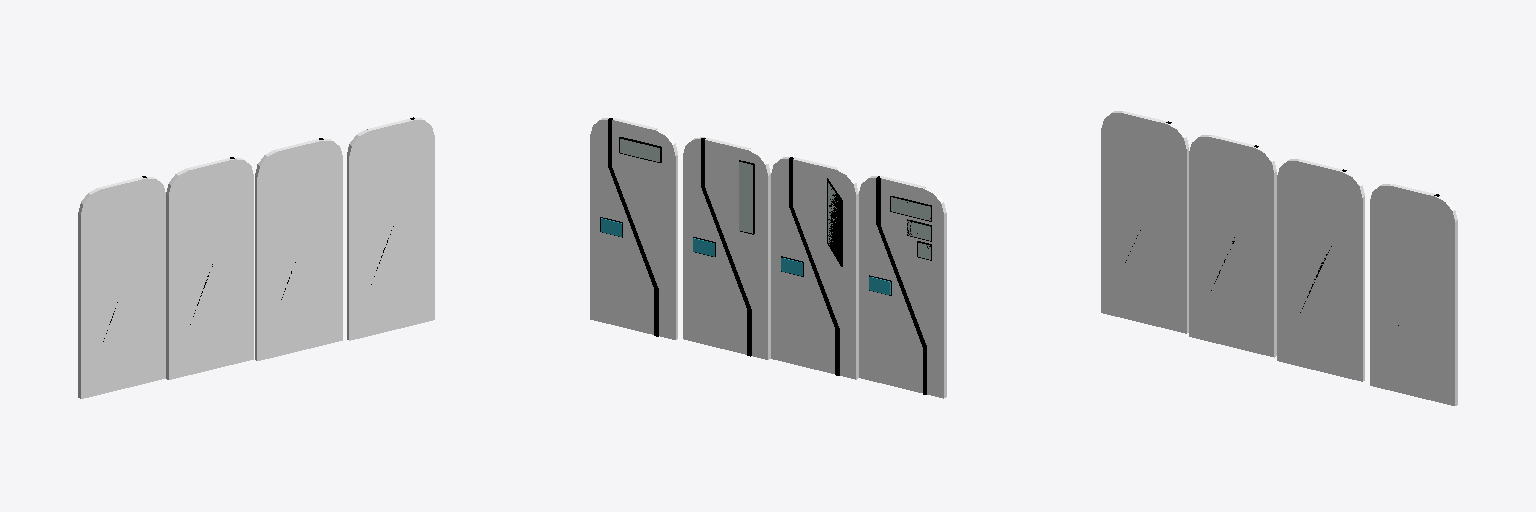
The picture shows the model from 3 angles: view 1: azimuth 30°, elevation 25°; view 2: azimuth 150°, elevation 25°; view 3: azimuth 330°, elevation 25°; orthographic projection.
Visible parts, largest first — view 1: group[number redacted], group[number redacted], group[number redacted], group[number redacted], group[number redacted], group[number redacted], group[number redacted], group[number redacted], group[number redacted], group[number redacted], group[number redacted]; view 2: group[number redacted], group[number redacted], group[number redacted], group[number redacted], group[number redacted], group[number redacted], group[number redacted], group[number redacted], group[number redacted], group[number redacted], group[number redacted], group[number redacted] (+10 smaller); view 3: group[number redacted], group[number redacted], group[number redacted], group[number redacted], group[number redacted], group[number redacted], group[number redacted], group[number redacted], group[number redacted], group[number redacted], group[number redacted], group[number redacted].
Boxes of the visible parts, x1,y1,x2,y2 form: group[number redacted]: [255, 156, 342, 360]; group[number redacted]: [78, 194, 165, 398]; group[number redacted]: [347, 136, 434, 340]; group[number redacted]: [166, 175, 253, 379]; group[number redacted]: [367, 119, 413, 150]; group[number redacted]: [276, 139, 321, 169]; group[number redacted]: [99, 177, 145, 209]; group[number redacted]: [166, 169, 207, 195]; group[number redacted]: [255, 150, 294, 176]; group[number redacted]: [214, 158, 253, 184]; group[number redacted]: [78, 188, 118, 214]; group[number redacted]: [590, 137, 677, 339]; group[number redacted]: [859, 197, 946, 398]; group[number redacted]: [683, 158, 770, 359]; group[number redacted]: [771, 177, 858, 379]; group[number redacted]: [683, 137, 722, 180]; group[number redacted]: [739, 162, 752, 233]; group[number redacted]: [771, 157, 810, 200]; group[number redacted]: [859, 176, 896, 219]; group[number redacted]: [590, 118, 628, 160]; group[number redacted]: [637, 129, 677, 171]; group[number redacted]: [827, 178, 842, 266]; group[number redacted]: [728, 148, 770, 191]; group[number redacted]: [1370, 201, 1457, 405]; group[number redacted]: [1101, 129, 1188, 333]; group[number redacted]: [1189, 153, 1276, 357]; group[number redacted]: [1277, 177, 1364, 381]; group[number redacted]: [1122, 111, 1166, 143]; group[number redacted]: [1235, 147, 1276, 172]; group[number redacted]: [1323, 171, 1364, 196]; group[number redacted]: [1415, 196, 1457, 221]; group[number redacted]: [1390, 184, 1435, 215]; group[number redacted]: [1189, 135, 1228, 161]; group[number redacted]: [1277, 159, 1316, 185]; group[number redacted]: [1298, 159, 1342, 190].
Size of the model in its own units: 4.68 by 2.68 by 0.1.